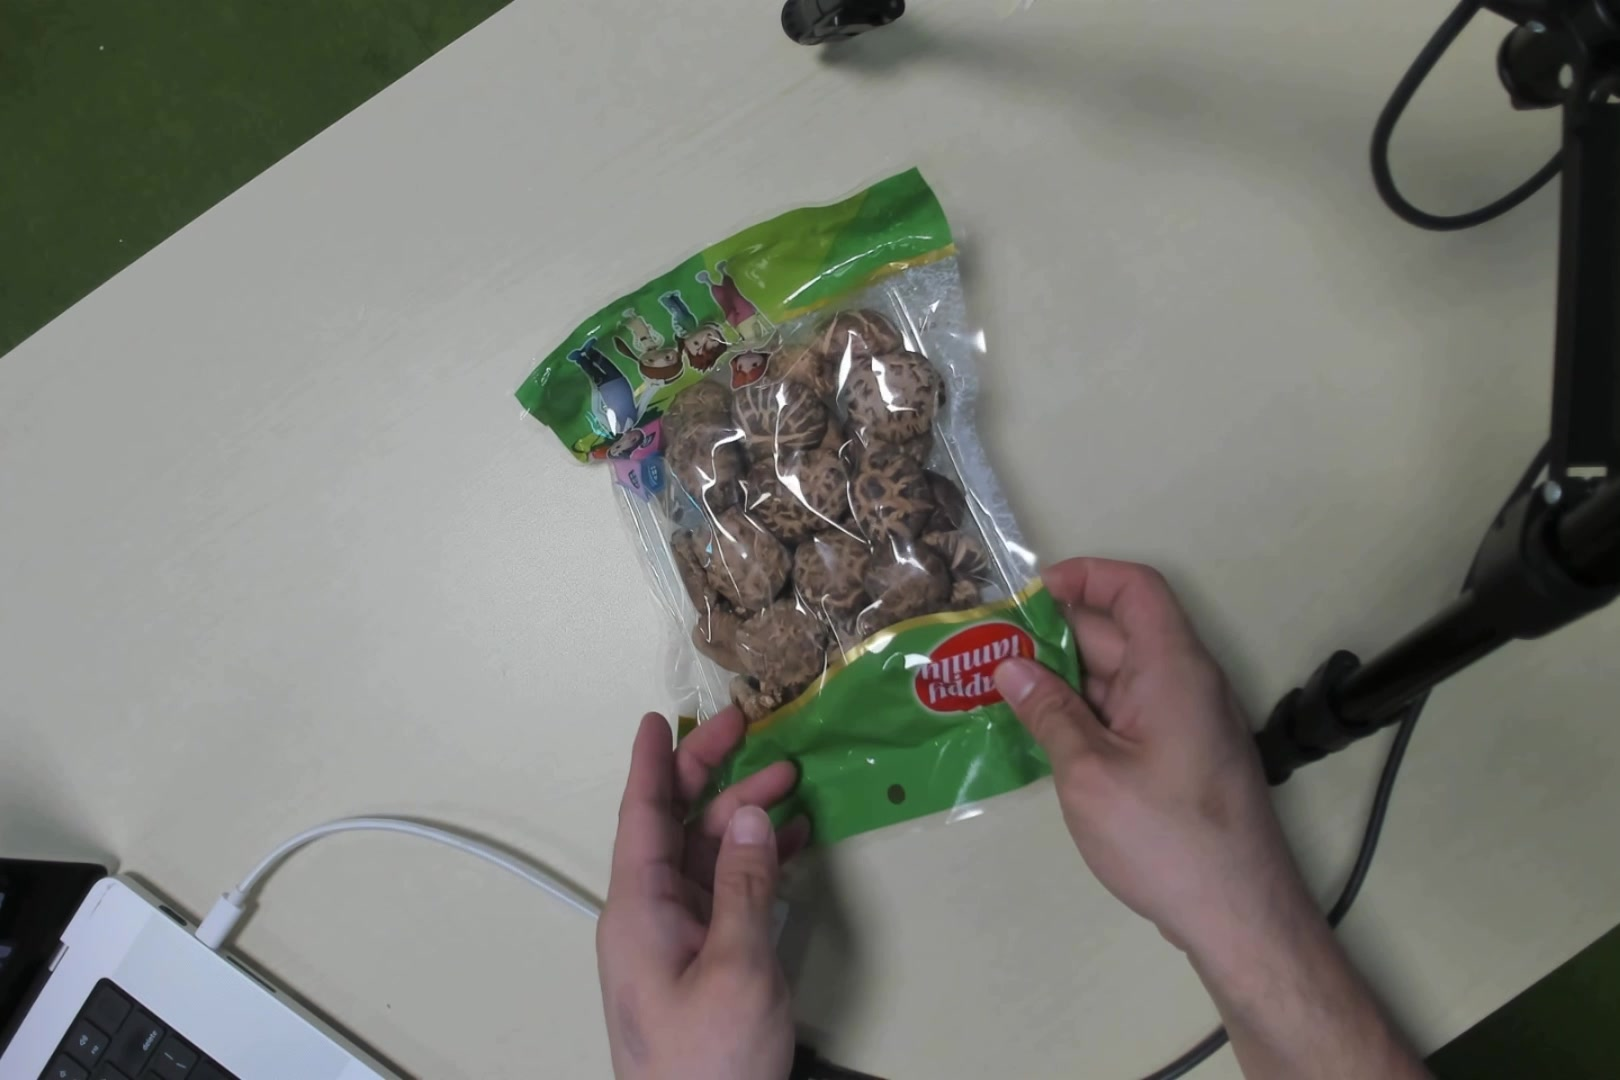OtherDriedFood_100-199g_NonHalal_NonHealthy: (599, 194, 1058, 808)
